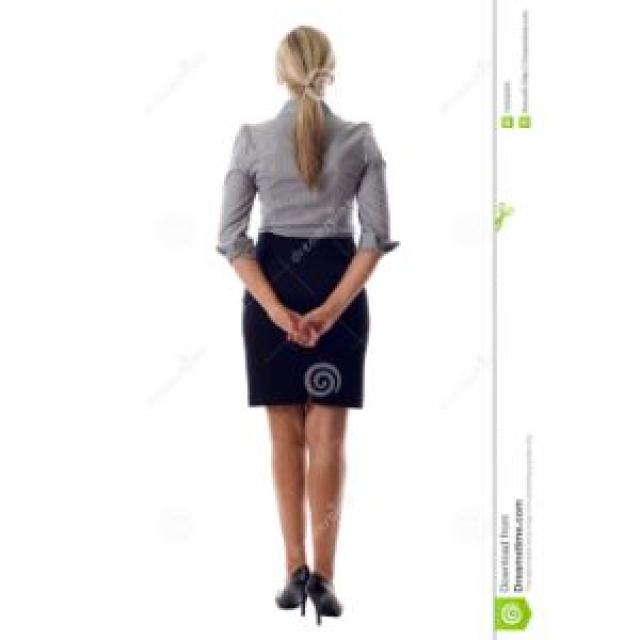adult: (198, 15, 420, 640)
